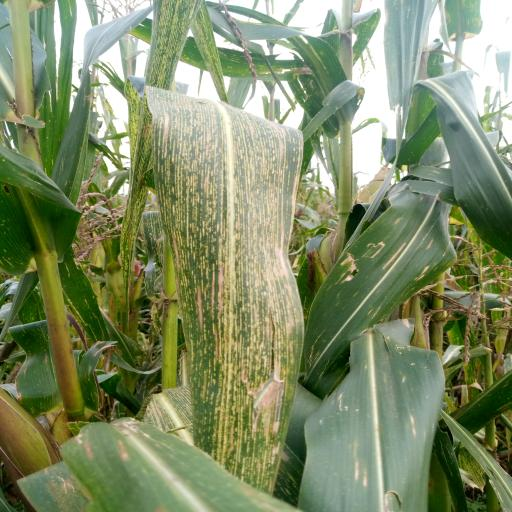Corn_Streak: (141, 71, 299, 489)
